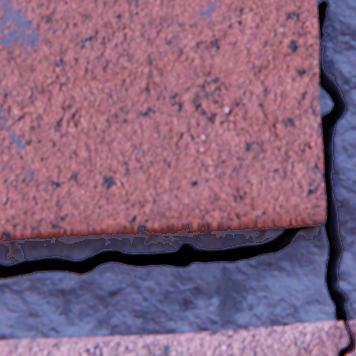brick: (0, 0, 325, 241)
broken_brick: (0, 320, 348, 355), (348, 319, 355, 336), (347, 348, 355, 355)
crack: (0, 225, 309, 277), (316, 1, 355, 355)
